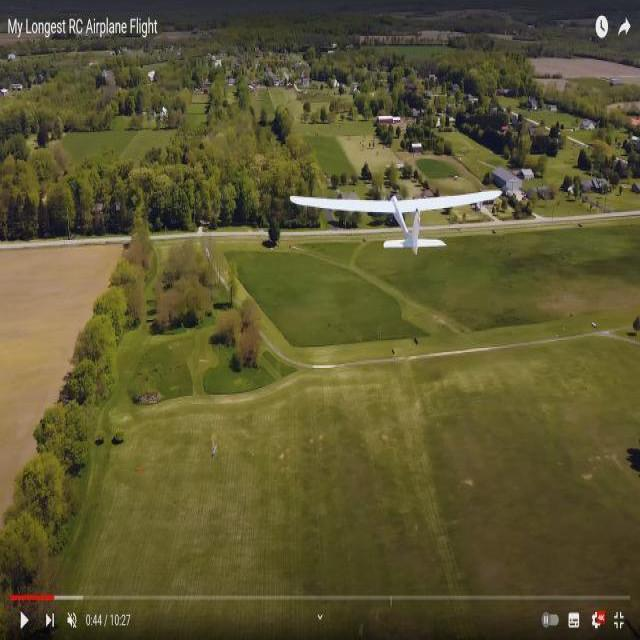iha: (282, 204, 511, 228)
